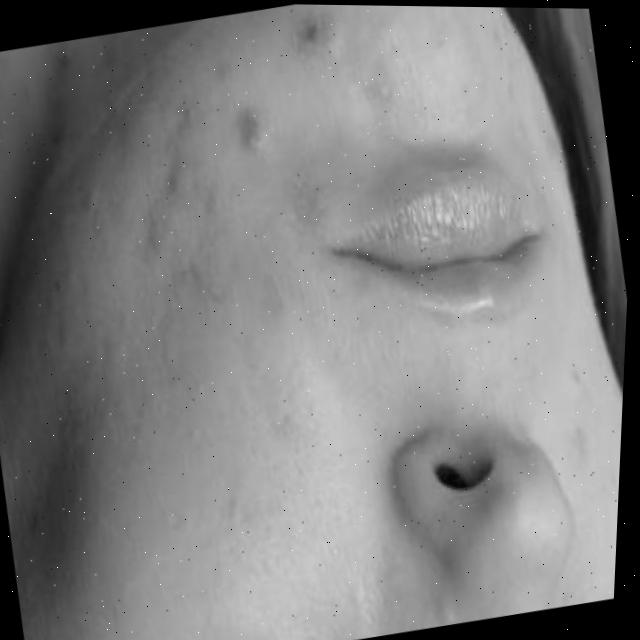Acne: (26, 1, 368, 278)
